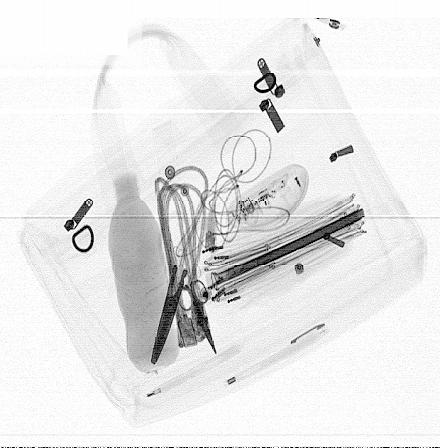Scissors: (150, 208, 219, 366), (176, 277, 218, 357)
